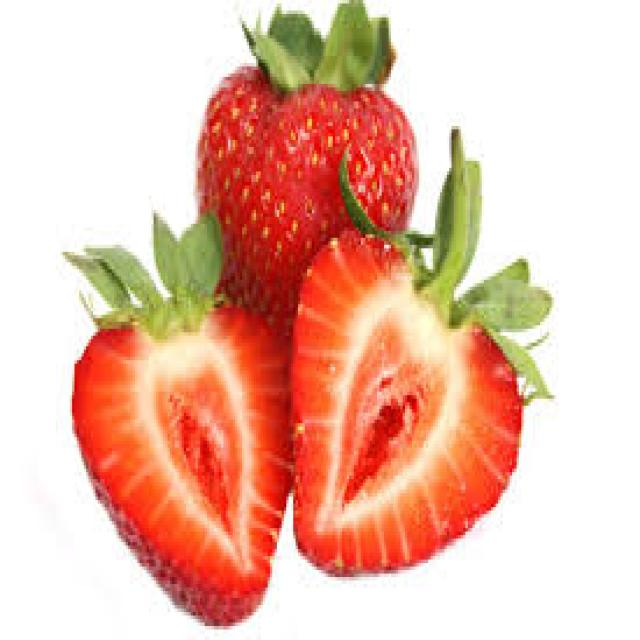strawberry: (56, 234, 301, 628), (293, 214, 526, 579), (200, 3, 419, 333)
